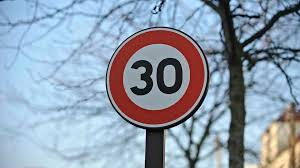Speed_limit_30km: (106, 27, 209, 127)
